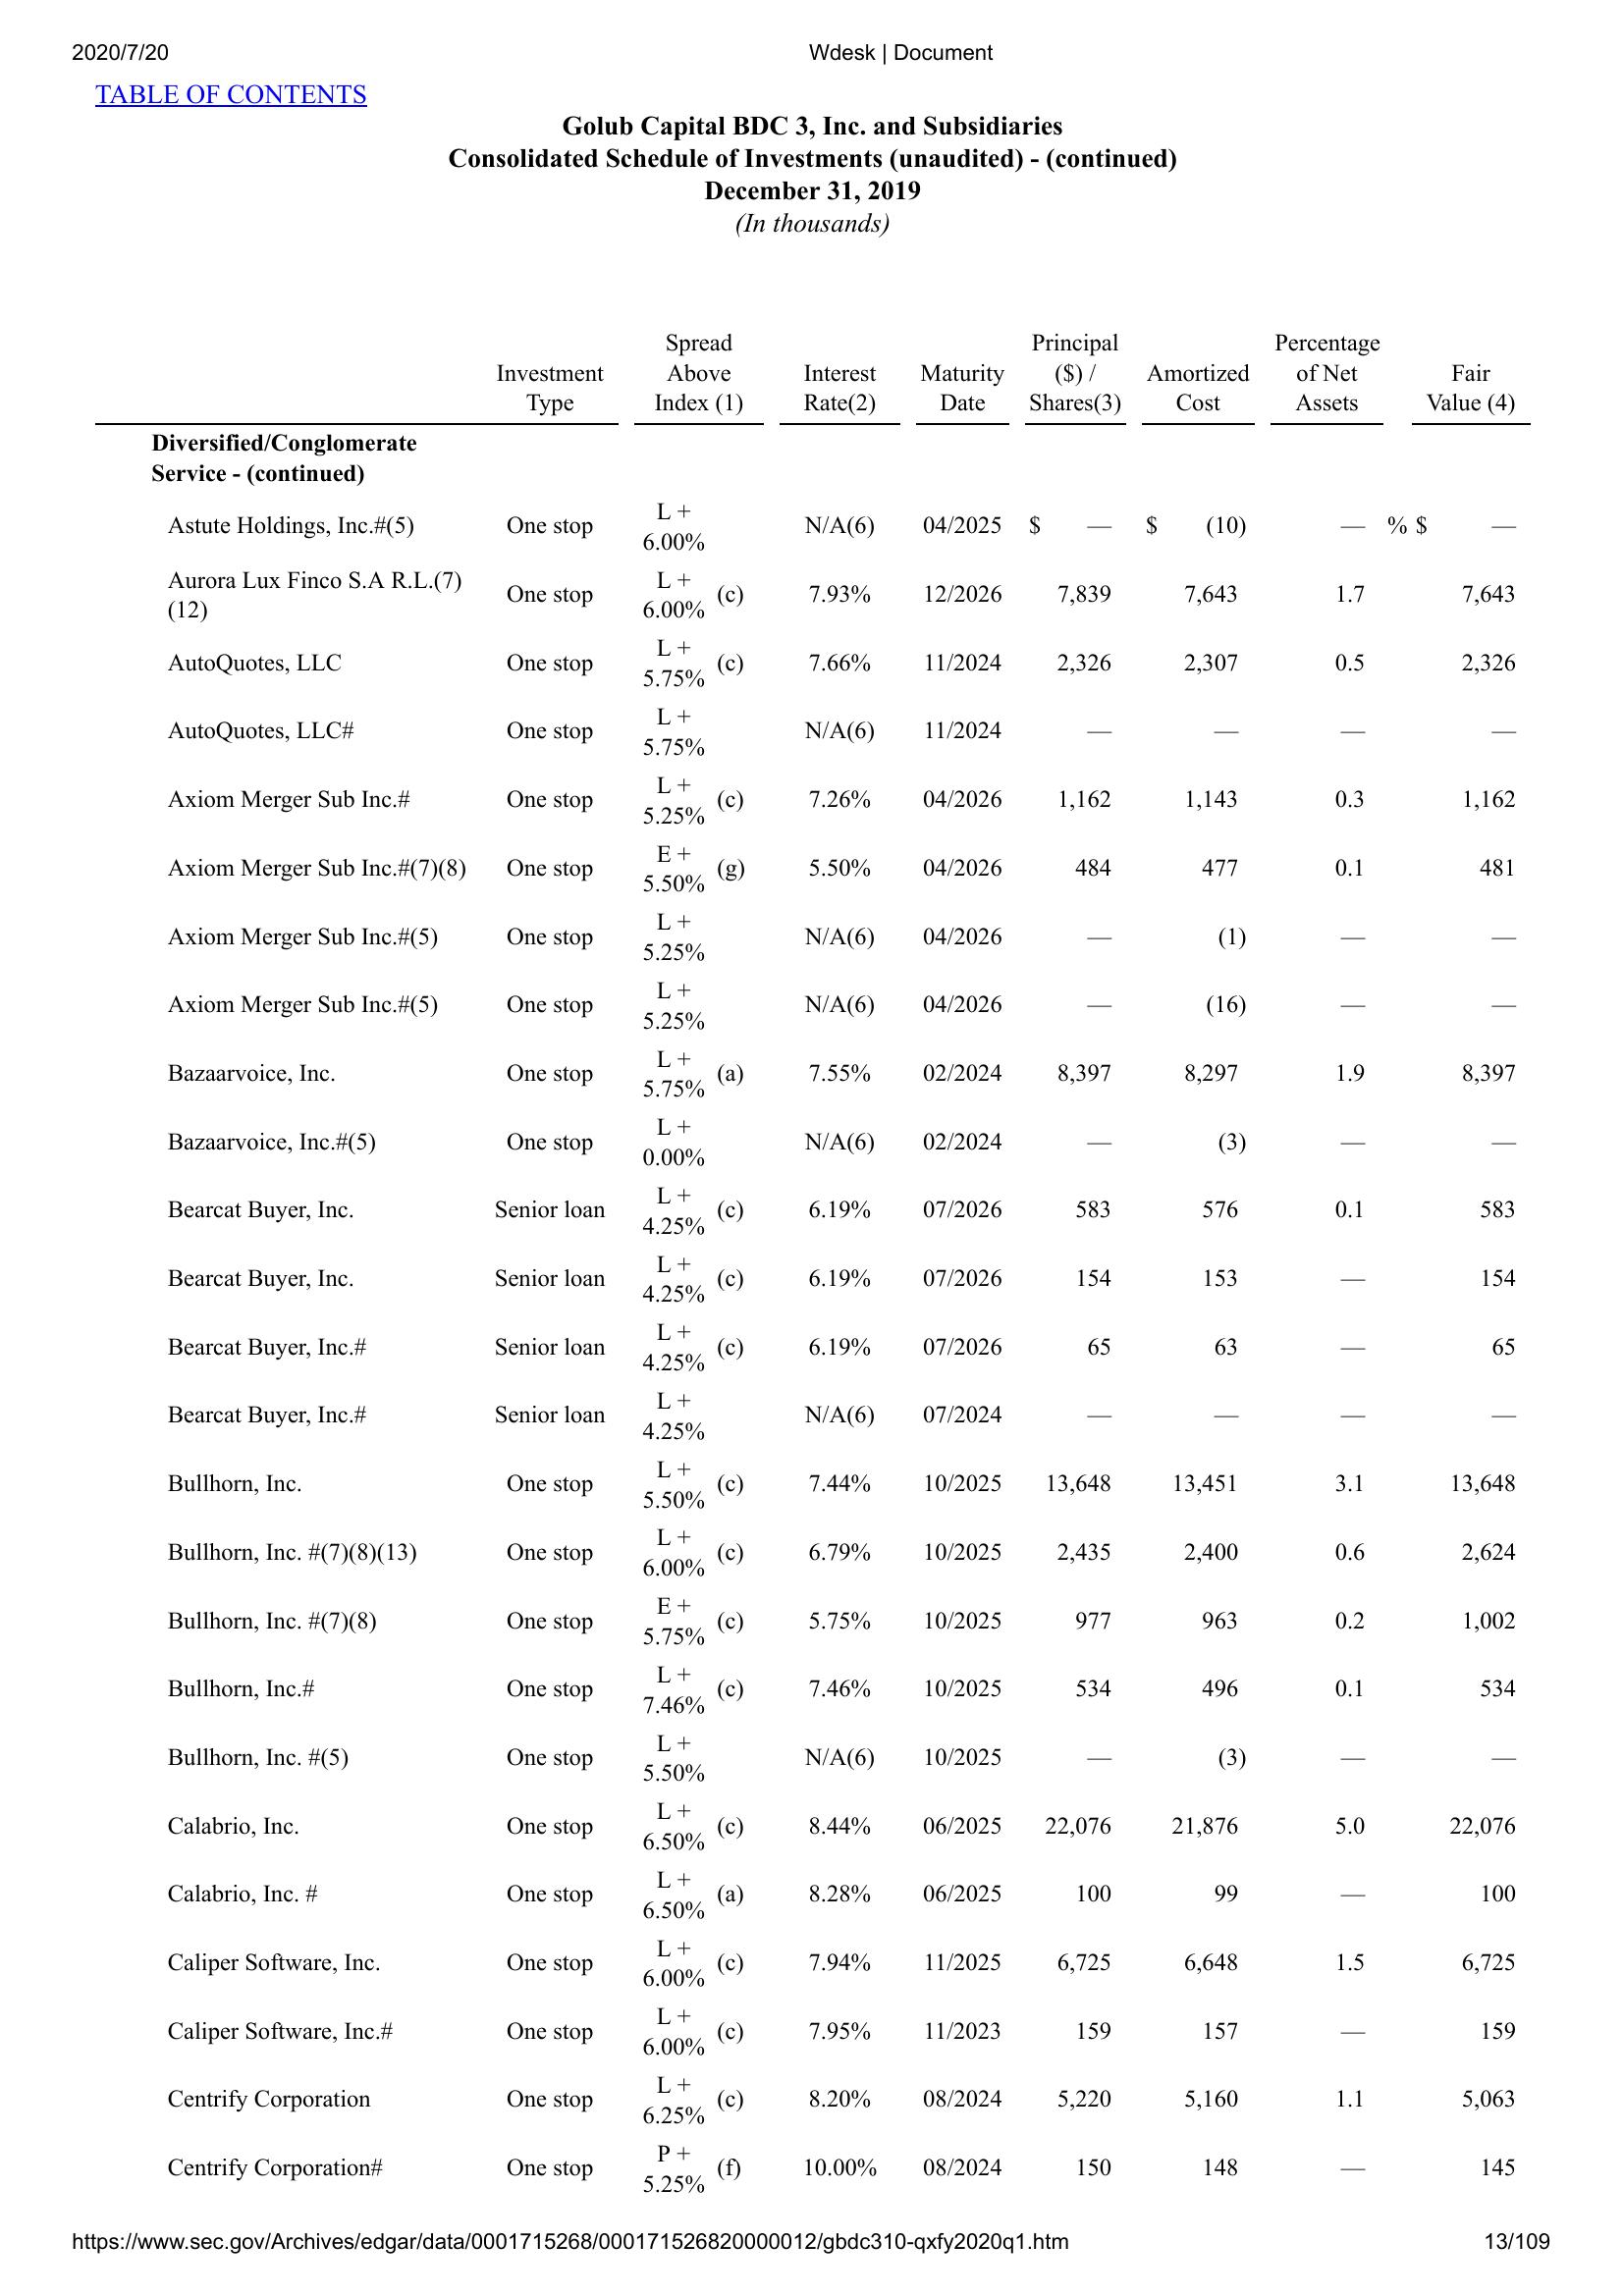table: (86, 326, 1539, 2194)
